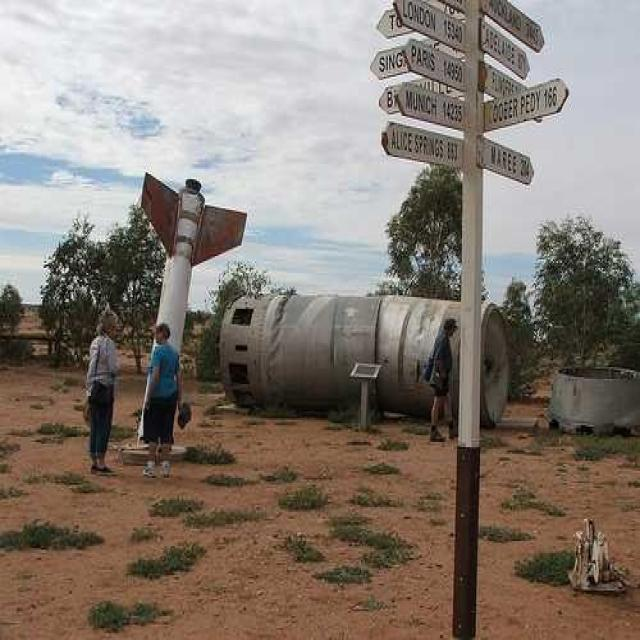missile: (134, 164, 200, 446)
